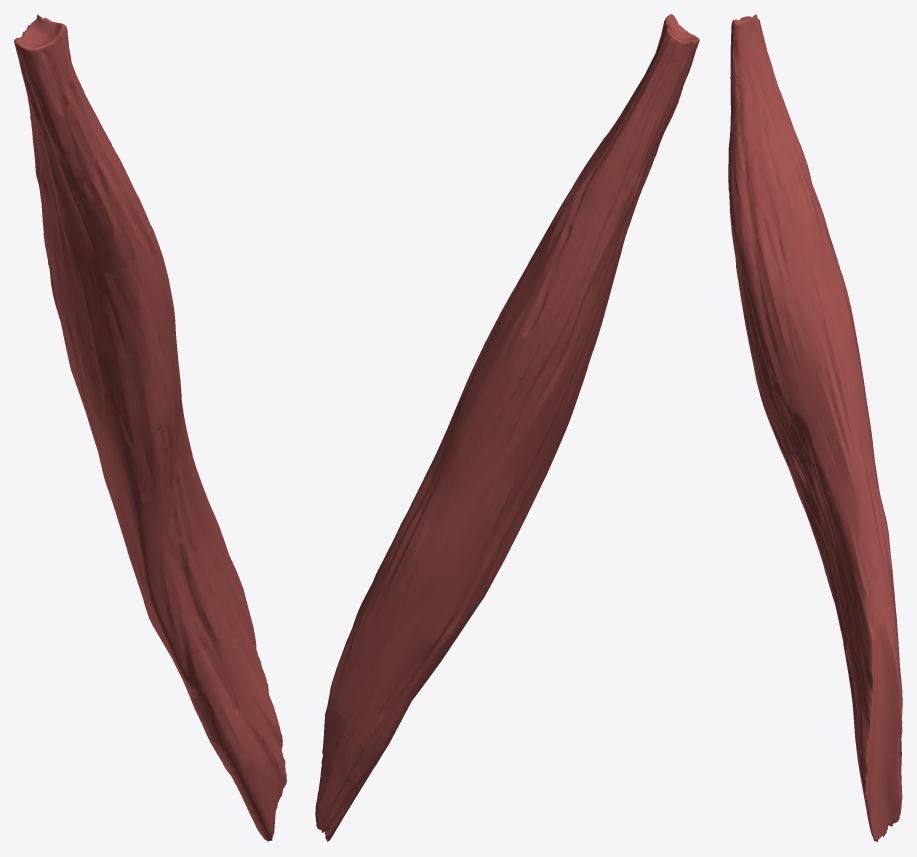
File: FMA37666.glb
The picture shows the model from 3 angles, left to right: view 1: azimuth 30°, elevation 25°; view 2: azimuth 150°, elevation 25°; view 3: azimuth 270°, elevation 25°; orthographic projection. The views are drawn at different scales.
Parts seen in each view (by area): view 1: FMA37666; view 2: FMA37666; view 3: FMA37666.
Part boxes in pixels (x1,y1,x2,y2): FMA37666: (14, 14, 286, 842); FMA37666: (315, 14, 699, 842); FMA37666: (728, 14, 902, 842).
Bounding box in the file's own units: 0.0587 × 0.1537 × 0.0339.
